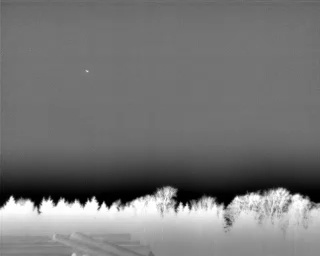BIRD: (83, 67, 91, 76)
